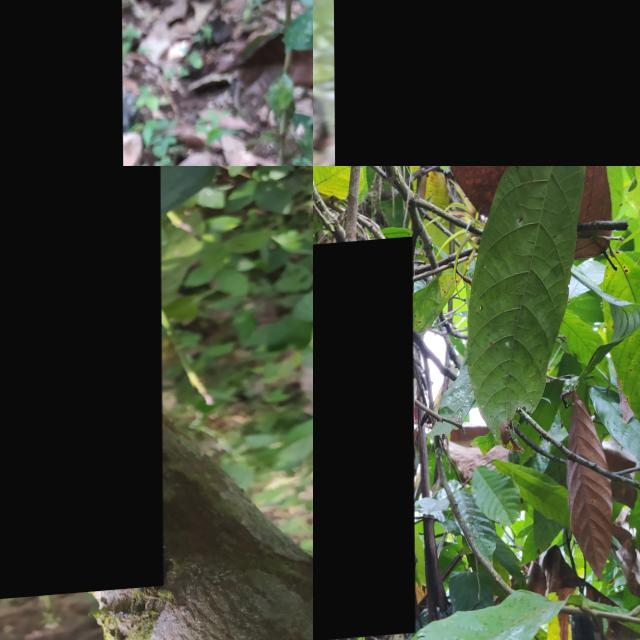Fitoftora: (333, 0, 640, 166), (313, 242, 414, 640), (0, 0, 124, 166)
Monilia: (0, 166, 162, 617)
